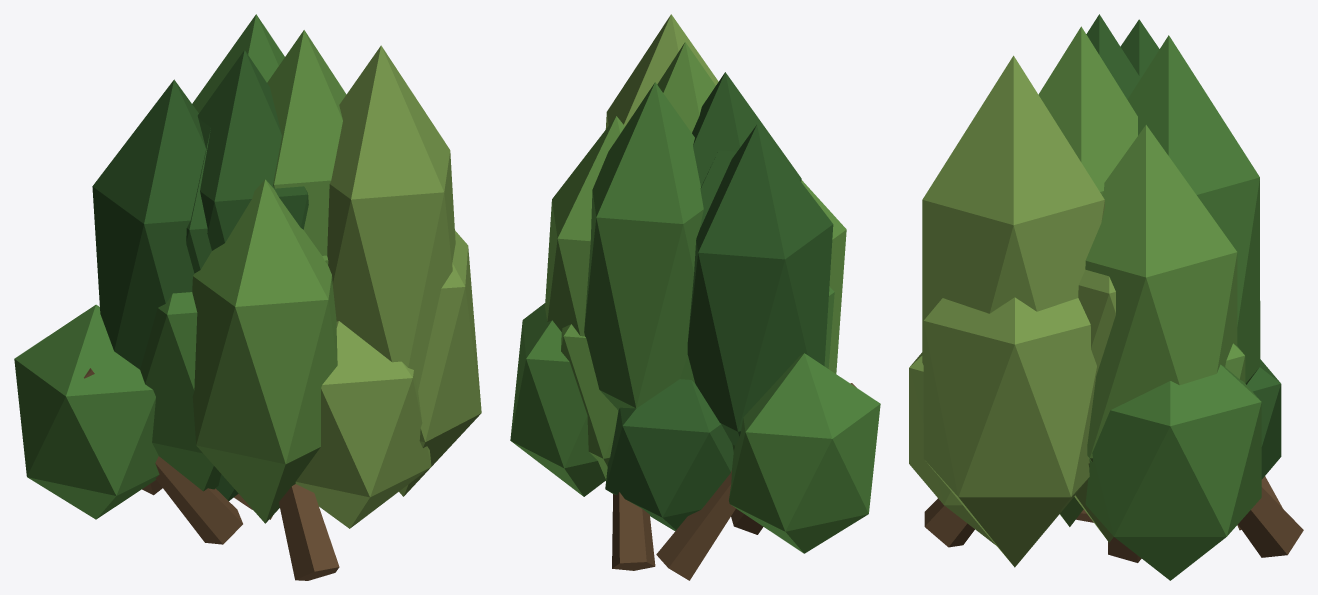
File: thicket_edge.glb
The picture shows the model from 3 angles, left to right: view 1: azimuth 30°, elevation 25°; view 2: azimuth 150°, elevation 25°; view 3: azimuth 270°, elevation 25°; orthographic projection. The views are drawn at different scales.
Visible parts, largest first — view 1: thicket_edge; view 2: thicket_edge; view 3: thicket_edge.
Boxes of the visible parts, box(x1,y1,x2,y2) form: thicket_edge: box(14, 14, 481, 580); thicket_edge: box(510, 14, 880, 580); thicket_edge: box(909, 14, 1303, 580).
Size of the model in its own units: 0.959 by 1.24 by 0.8098.
